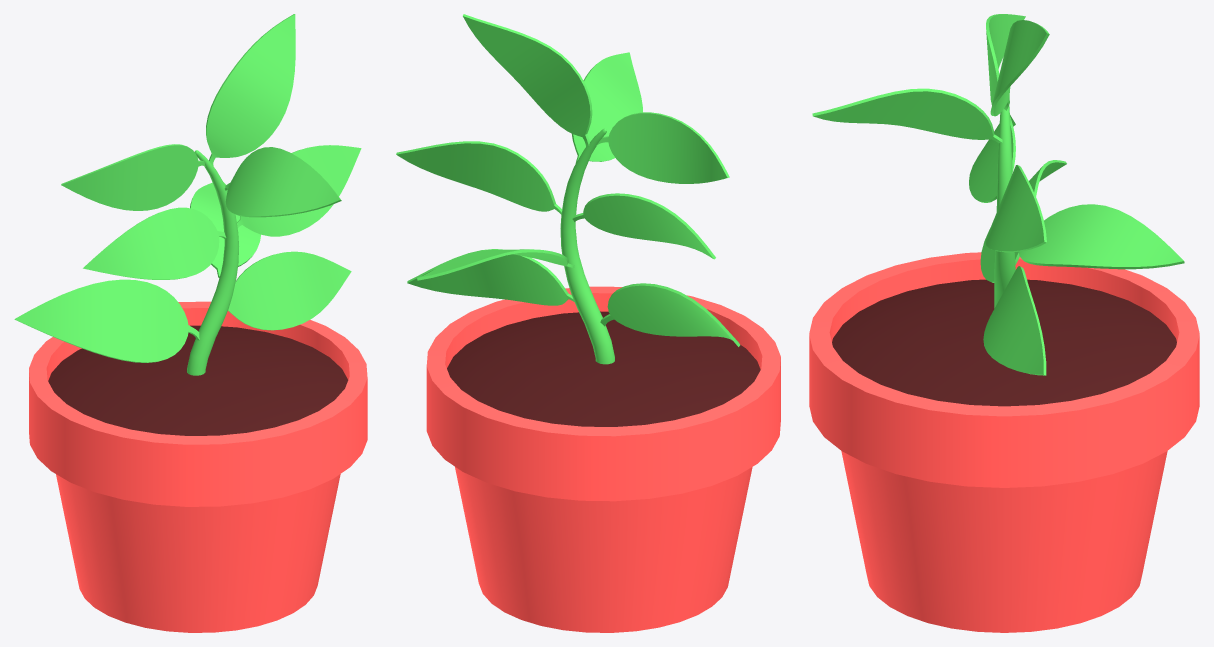
Rendered from potted_plant.gltf.
3 views of the same model, side by side, from view 1: azimuth 30°, elevation 25°; view 2: azimuth 150°, elevation 25°; view 3: azimuth 270°, elevation 25° (orthographic). The views are drawn at different scales.
Parts seen in each view (by area): view 1: Circle.2056; view 2: Circle.2056; view 3: Circle.2056.
Part boxes in pixels (x1=…): Circle.2056: x1=14, y1=14, x2=367, y2=632; Circle.2056: x1=396, y1=14, x2=780, y2=632; Circle.2056: x1=809, y1=14, x2=1199, y2=632.
Size of the model in its own units: 1.45 by 2.16 by 1.26.
Materials: 1 (1 with a texture image).
